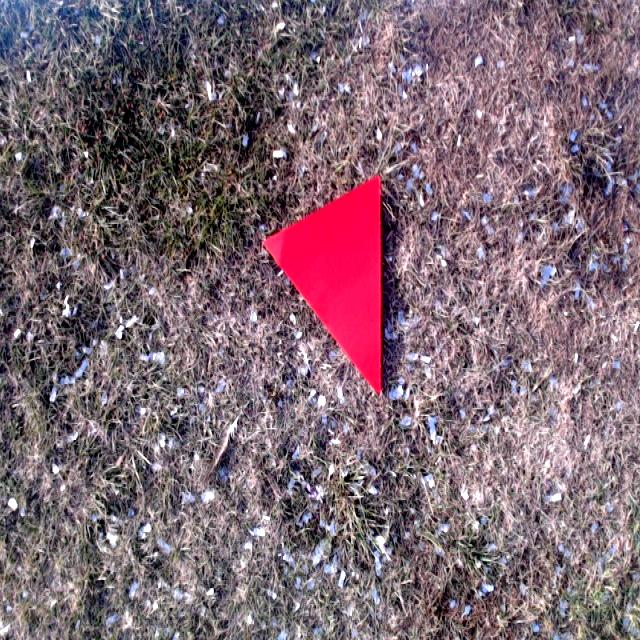red_triangle: (262, 174, 382, 396)
